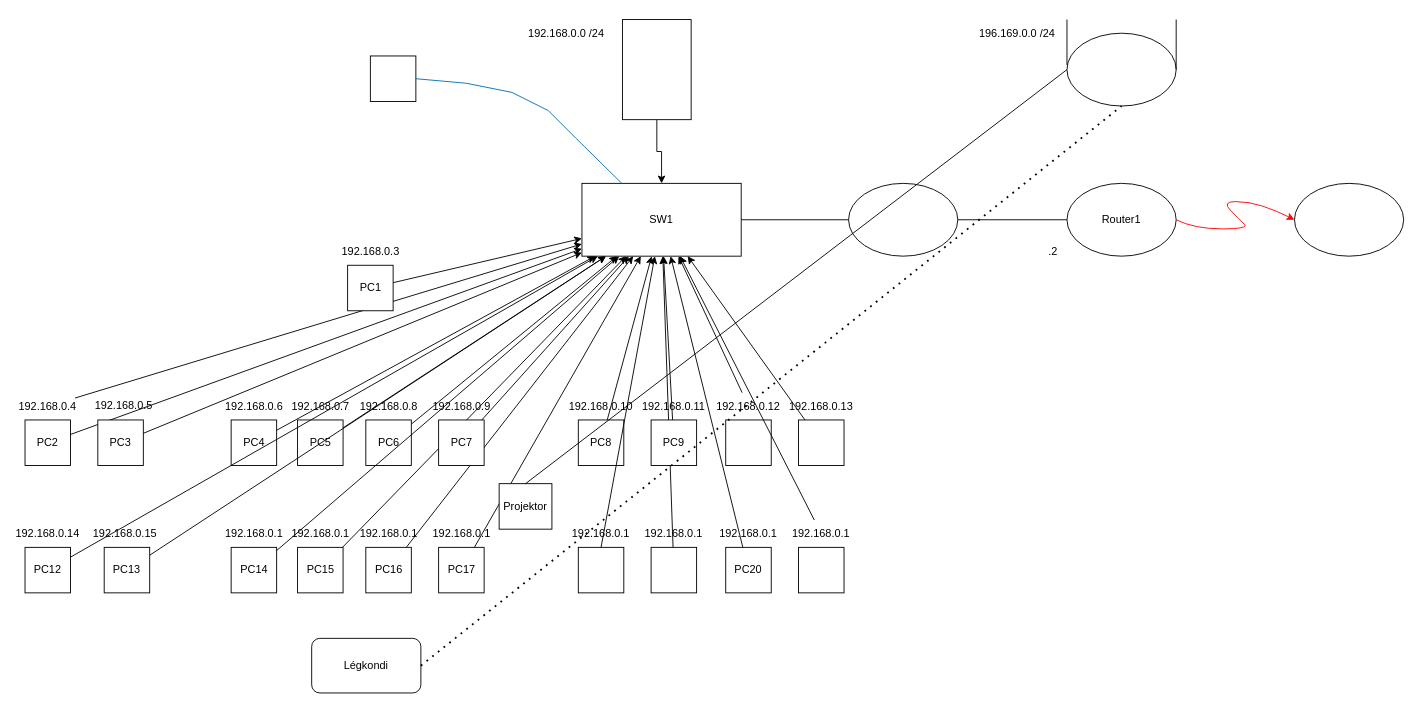
This 1420x709 diagram has some shape labels left out. The centre of each missing label's shape, as x and y in pixels:
"ISP" goes at (x=1349, y=219).
"Laptop" goes at (x=392, y=78).
"PC10" goes at (x=748, y=442).
"PC11" goes at (x=821, y=442).
"PC18" goes at (x=600, y=569).
"PC19" goes at (x=673, y=569).
"PC21" goes at (x=821, y=569).
"Repeater1" goes at (x=903, y=219).
"szerver" goes at (x=656, y=69).
"Wireless router" goes at (x=1121, y=69).
